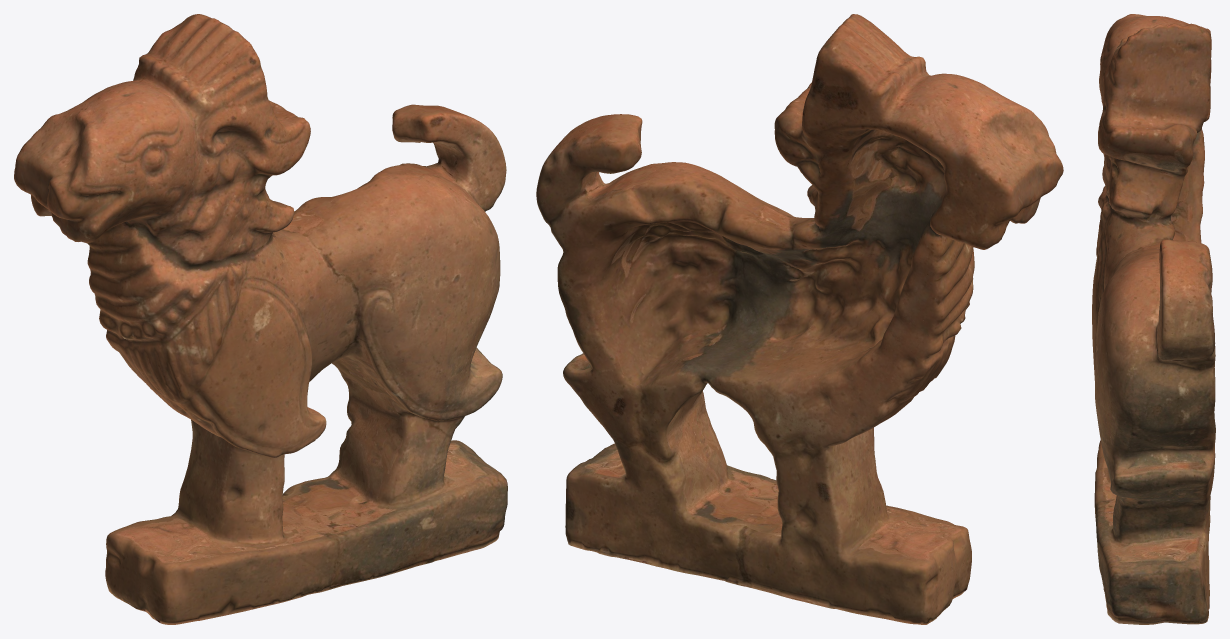
The model's file is MysonMuseum_gajasimha_final.glb.
The picture shows the model from 3 angles, left to right: view 1: azimuth 30°, elevation 25°; view 2: azimuth 150°, elevation 25°; view 3: azimuth 270°, elevation 25°; orthographic projection. The views are drawn at different scales.
Bounding box in the file's own units: 0.4351 × 0.4912 × 0.1124.
Materials: 1 (1 with a texture image).
